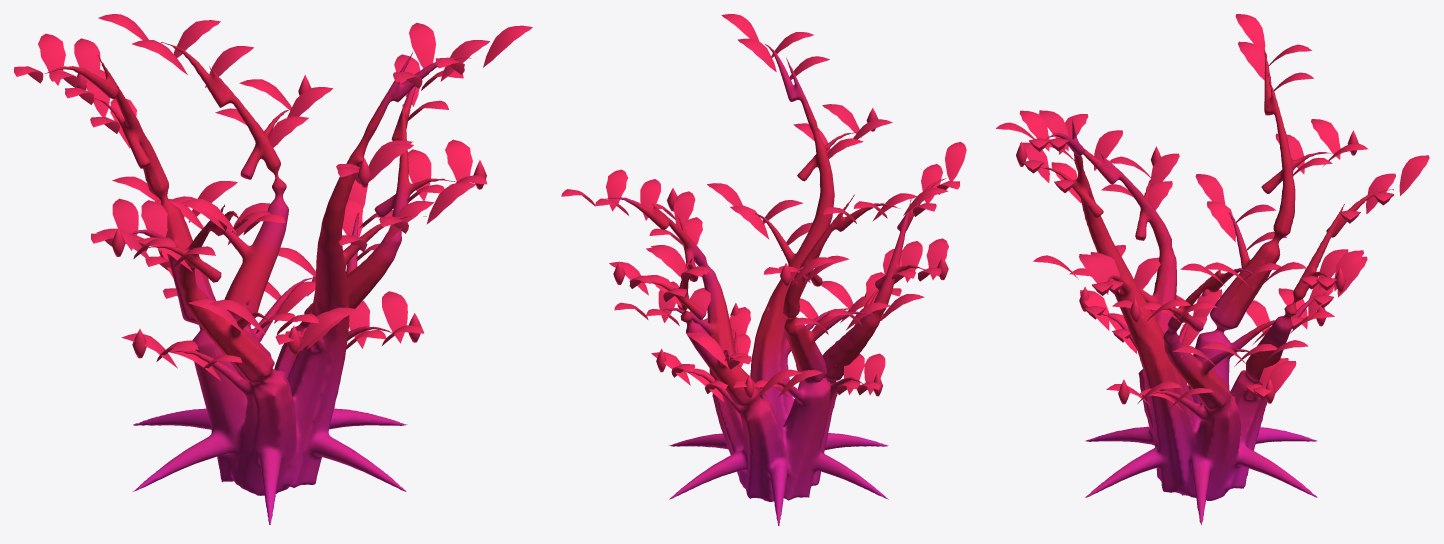
The model's file is SM_LW_TwistedScrub.fbx.
3 views of the same model, side by side, from view 1: azimuth 30°, elevation 25°; view 2: azimuth 150°, elevation 25°; view 3: azimuth 270°, elevation 25° (orthographic). The views are drawn at different scales.
Visible parts, largest first — view 1: SM_LW_TwistedScrub; view 2: SM_LW_TwistedScrub; view 3: SM_LW_TwistedScrub.
Boxes of the visible parts, x1=… form: SM_LW_TwistedScrub: x1=14, y1=14, x2=532, y2=524; SM_LW_TwistedScrub: x1=561, y1=14, x2=966, y2=525; SM_LW_TwistedScrub: x1=996, y1=14, x2=1429, y2=525.
Size of the model in its own units: 113 by 114 by 117.
